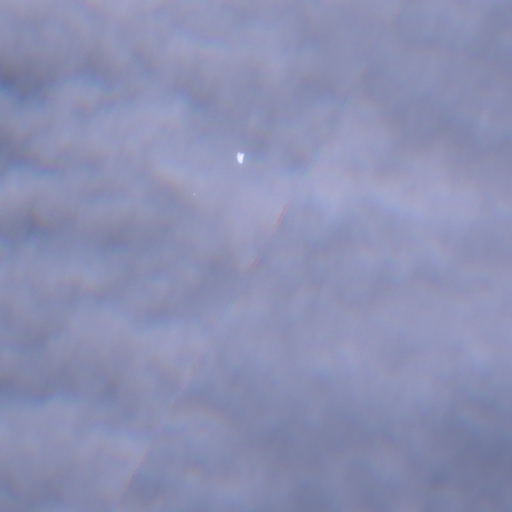Iceberg: (237, 152, 243, 163), (193, 193, 194, 194)
